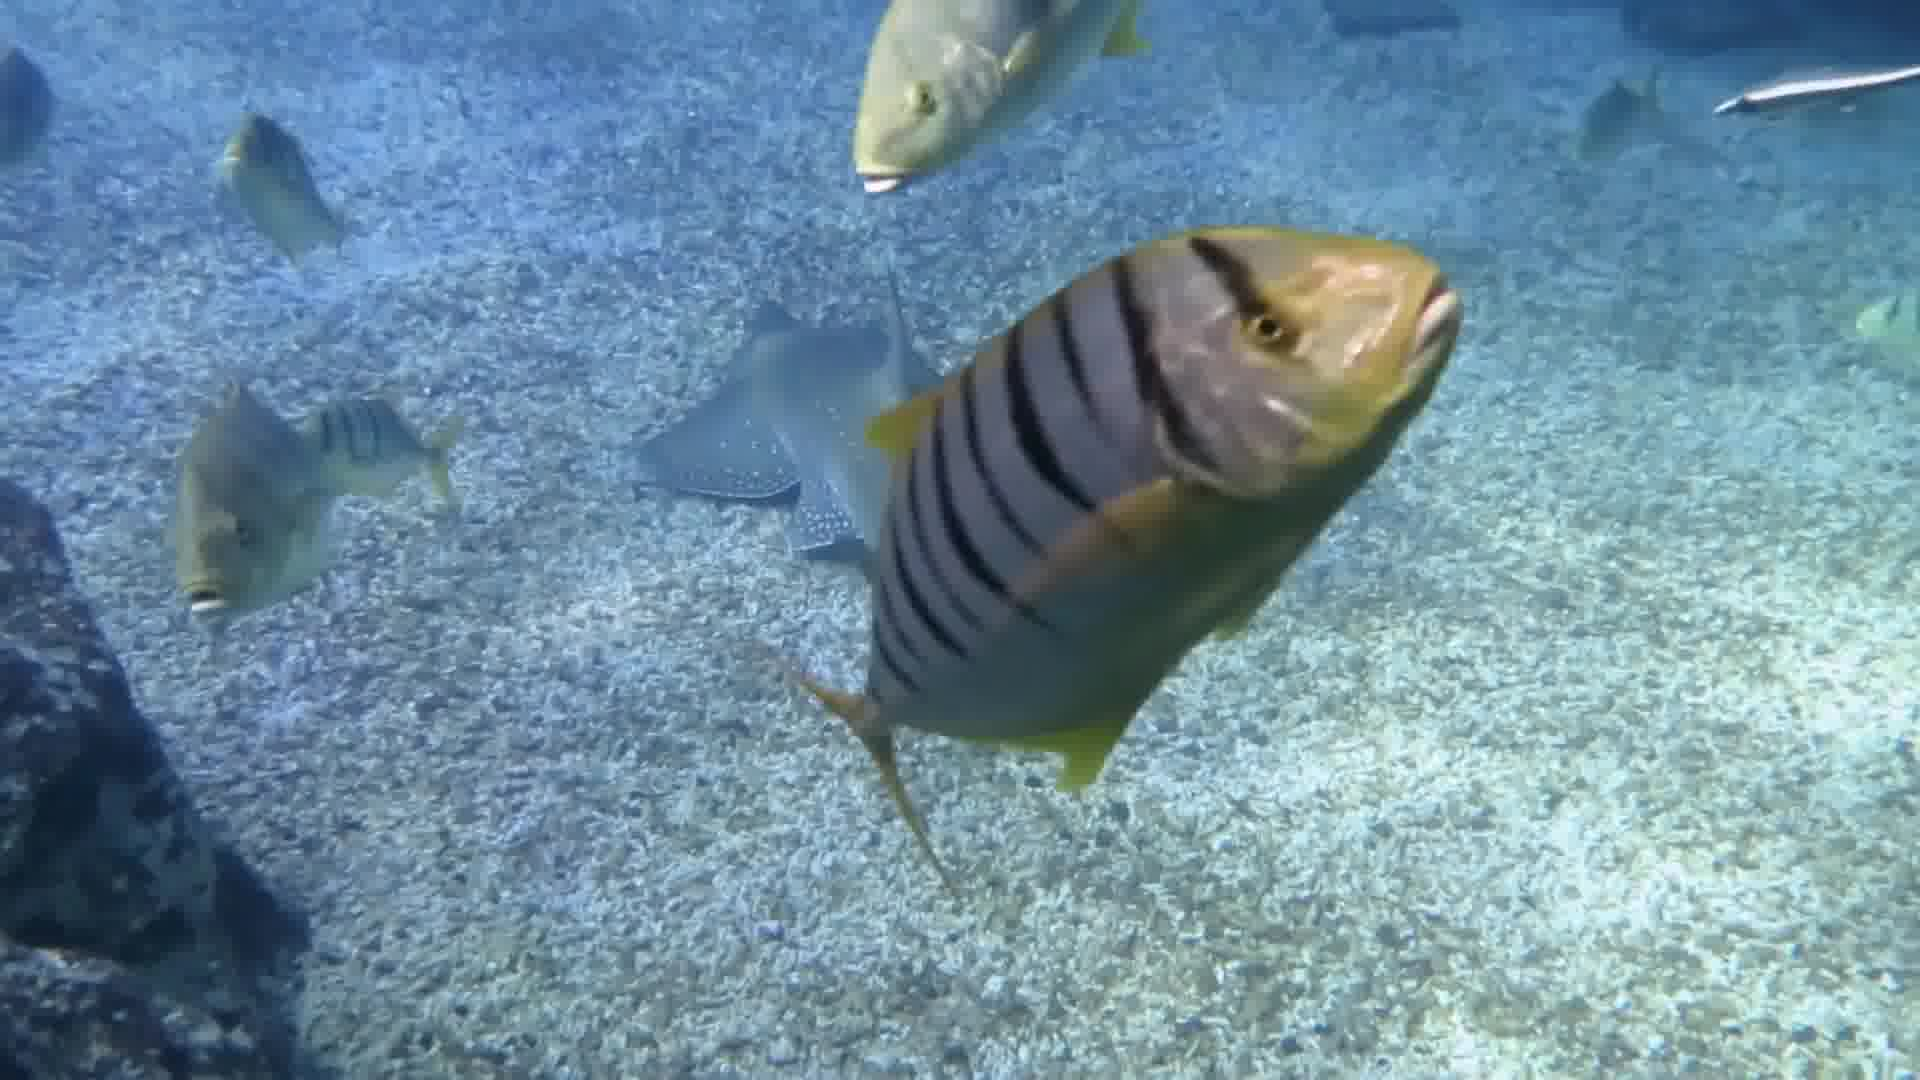Rhychobatus djiddensis: (578, 247, 906, 526)
